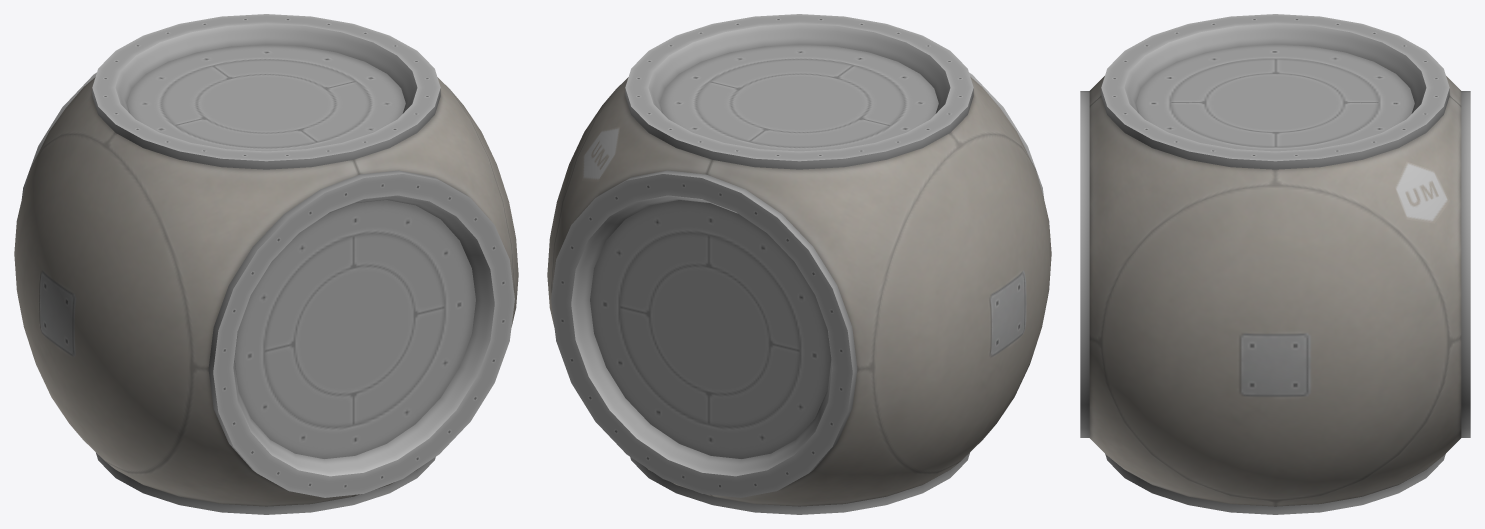
The model's file is Alniyat_Node_1.obj.
The picture shows the model from 3 angles, left to right: view 1: azimuth 30°, elevation 25°; view 2: azimuth 150°, elevation 25°; view 3: azimuth 270°, elevation 25°; orthographic projection.
Visible parts, largest first — view 1: Alniyat_Node_1; view 2: Alniyat_Node_1; view 3: Alniyat_Node_1.
Boxes of the visible parts, x1,y1,x2,y2 form: Alniyat_Node_1: (14, 14, 518, 514); Alniyat_Node_1: (547, 14, 1051, 514); Alniyat_Node_1: (1080, 14, 1470, 514).
Size of the model in its own units: 1.31 by 1.05 by 1.05.
